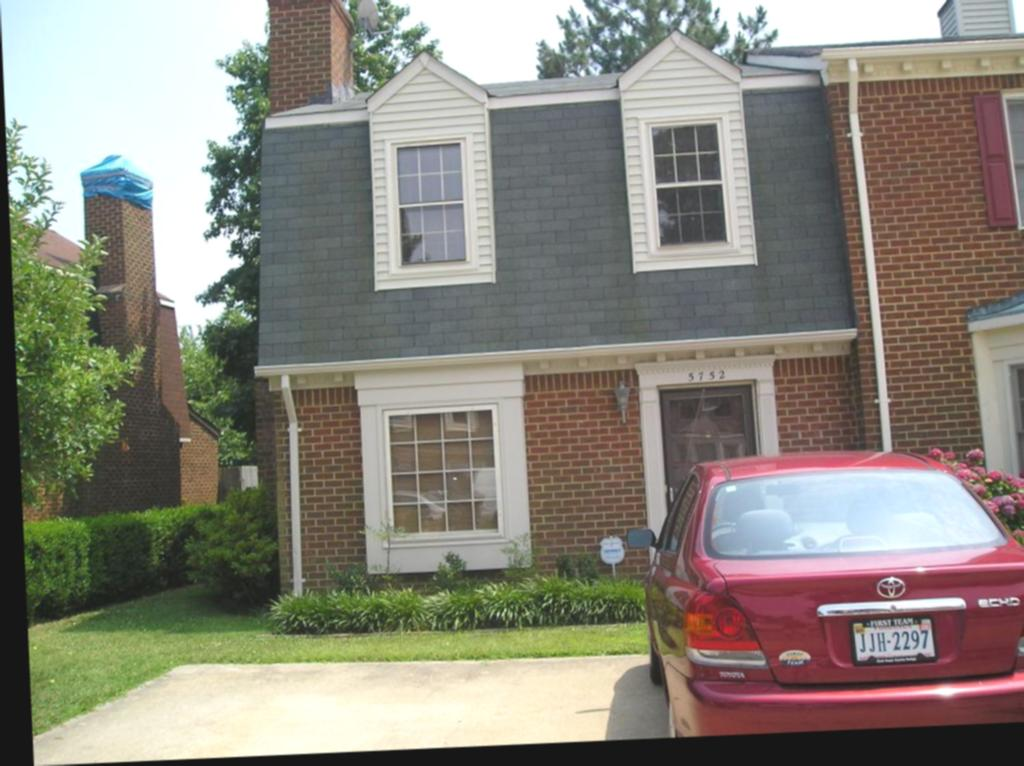License_Plate: (851, 615, 937, 668)
